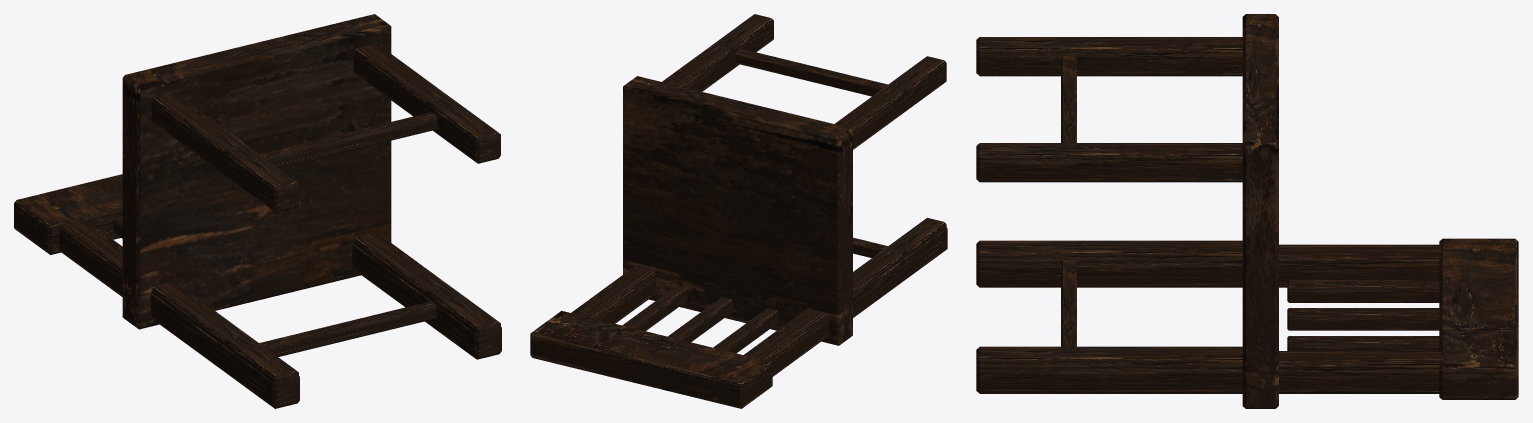
Rendered from level1_chair_remodel.glb.
3 renders of one model, left to right at view 1: azimuth 30°, elevation 25°; view 2: azimuth 150°, elevation 25°; view 3: azimuth 270°, elevation 25°, orthographic. The views are drawn at different scales.
Parts seen in each view (by area): view 1: ChairSeatFrame, ChairBackPost_-0.19, ChairLeg_-0.19_0.17, ChairLeg_0.19_0.17, ChairBackCrest, ChairLeg_-0.19_-0.17, ChairLeg_0.19_-0.17, ChairBackPost_0.19, ChairStretcher_0.17, ChairStretcher_-0.17; view 2: ChairSeatFrame, ChairBackCrest, ChairBackPost_-0.19, ChairLeg_-0.19_0.17, ChairLeg_0.19_0.17, ChairBackPost_0.19, ChairStretcher_0.17, ChairLeg_-0.19_-0.17, ChairBackSpindle_-0.1, ChairBackSpindle_0.1, ChairBackSpindle_0, ChairStretcher_-0.17; view 3: ChairBackPost_0.19, ChairSeatFrame, ChairBackPost_-0.19, ChairBackCrest, ChairLeg_0.19_0.17, ChairLeg_-0.19_0.17, ChairLeg_-0.19_-0.17, ChairLeg_0.19_-0.17, ChairBackSpindle_0, ChairBackSpindle_-0.1, ChairBackSpindle_0.1, ChairStretcher_0.17 (+1 smaller).
Boxes of the visible parts, box(x1,y1,x2,y2) form: ChairSeatFrame: box(122, 14, 391, 329); ChairBackPost_-0.19: box(59, 218, 299, 408); ChairLeg_-0.19_0.17: box(151, 92, 298, 212); ChairLeg_0.19_0.17: box(353, 43, 500, 163); ChairBackCrest: box(14, 174, 122, 254); ChairLeg_-0.19_-0.17: box(151, 281, 298, 400); ChairLeg_0.19_-0.17: box(353, 232, 500, 350); ChairBackPost_0.19: box(352, 244, 501, 359); ChairStretcher_0.17: box(259, 112, 437, 167); ChairStretcher_-0.17: box(259, 301, 436, 356); ChairSeatFrame: box(623, 76, 852, 345); ChairBackCrest: box(530, 311, 772, 408); ChairBackPost_-0.19: box(712, 228, 947, 404); ChairLeg_-0.19_0.17: box(835, 56, 946, 149); ChairLeg_0.19_0.17: box(662, 14, 773, 91); ChairBackPost_0.19: box(540, 266, 656, 362); ChairStretcher_0.17: box(735, 48, 887, 96); ChairLeg_-0.19_-0.17: box(853, 217, 946, 295); ChairBackSpindle_-0.1: box(713, 308, 778, 353); ChairBackSpindle_0.1: box(622, 286, 687, 331); ChairBackSpindle_0: box(668, 297, 732, 342); ChairStretcher_-0.17: box(853, 237, 887, 257); ChairBackPost_0.19: box(976, 351, 1441, 393); ChairSeatFrame: box(1242, 14, 1278, 408); ChairBackPost_-0.19: box(976, 244, 1441, 287); ChairBackCrest: box(1439, 238, 1518, 399); ChairLeg_0.19_0.17: box(976, 143, 1242, 182); ChairLeg_-0.19_0.17: box(976, 37, 1242, 76); ChairLeg_-0.19_-0.17: box(976, 240, 1242, 259); ChairLeg_0.19_-0.17: box(976, 346, 1242, 365); ChairBackSpindle_0: box(1287, 308, 1439, 330); ChairBackSpindle_-0.1: box(1287, 280, 1439, 302); ChairBackSpindle_0.1: box(1287, 336, 1439, 350); ChairStretcher_0.17: box(1061, 56, 1076, 142).
Size of the model in its own units: 0.48 by 0.44 by 0.82.
1 material, 1 textured.
